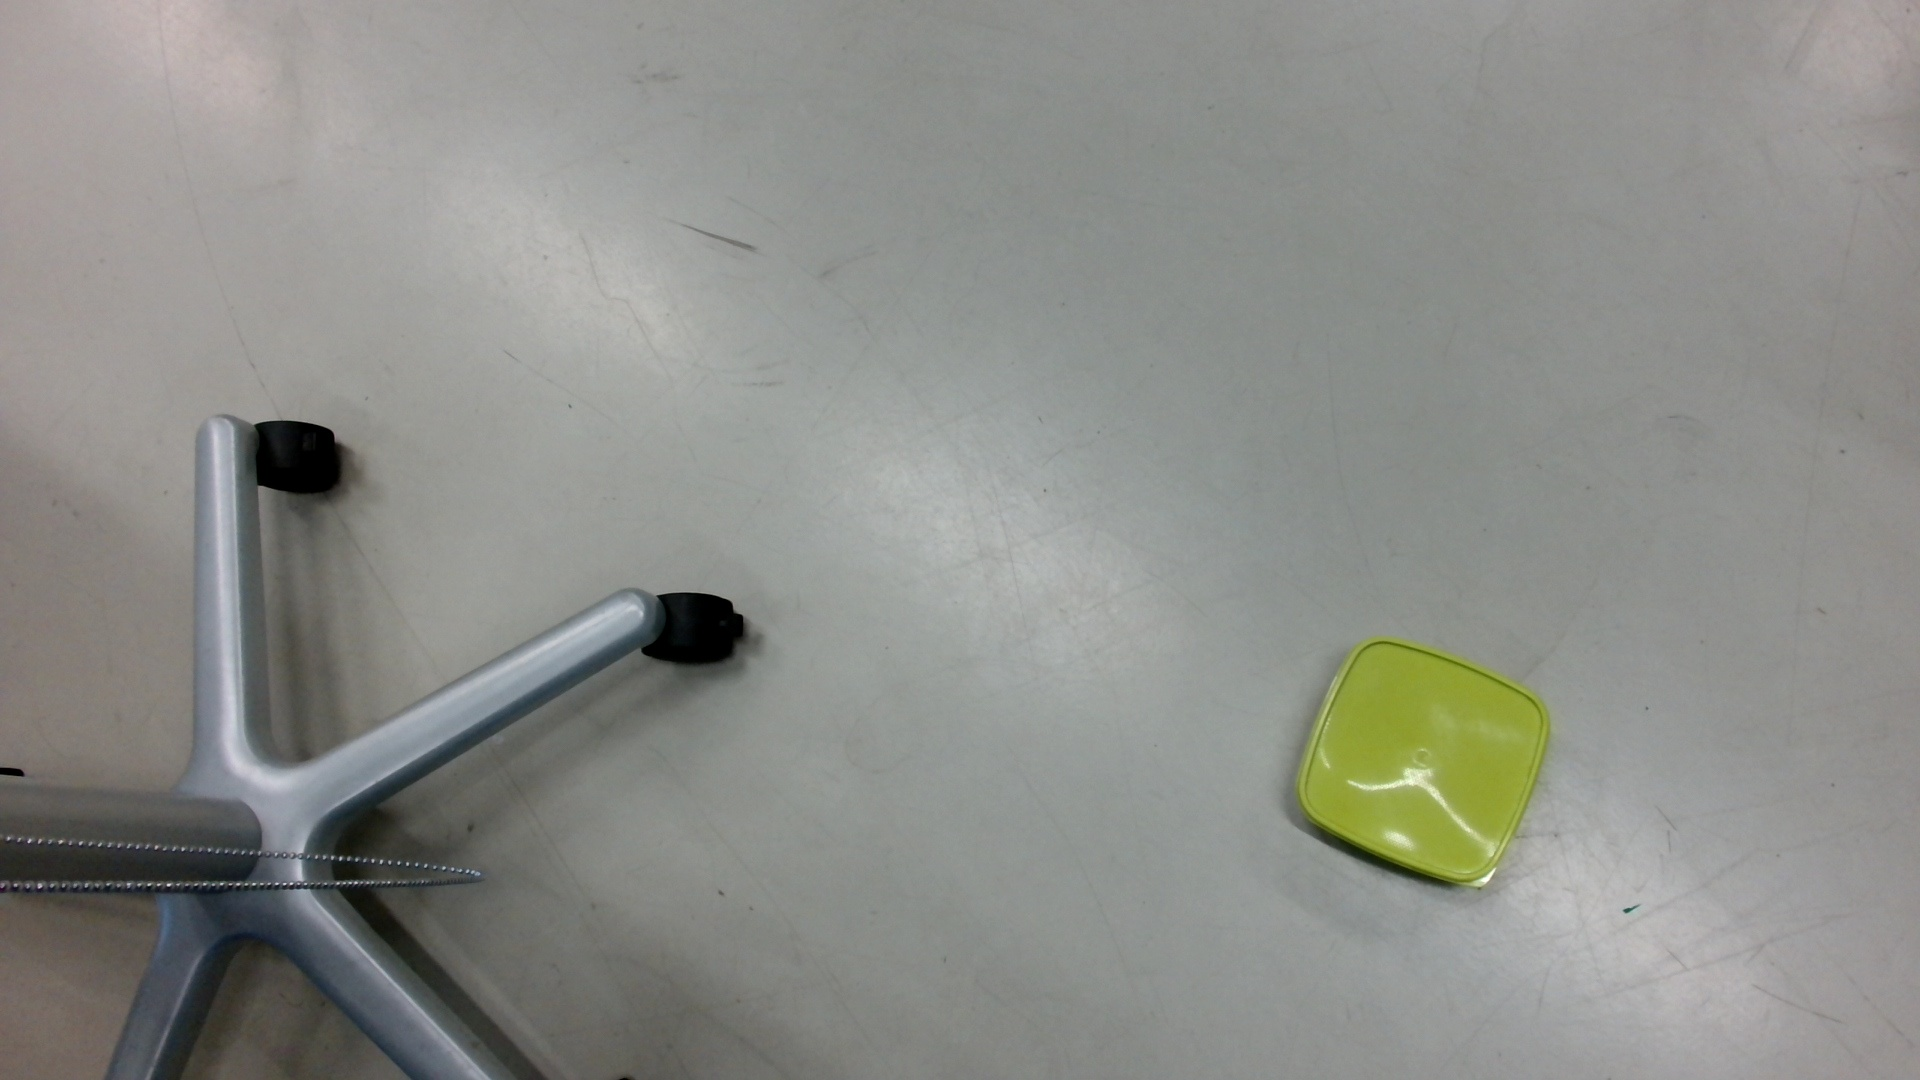Box: (1290, 634, 1555, 895)
